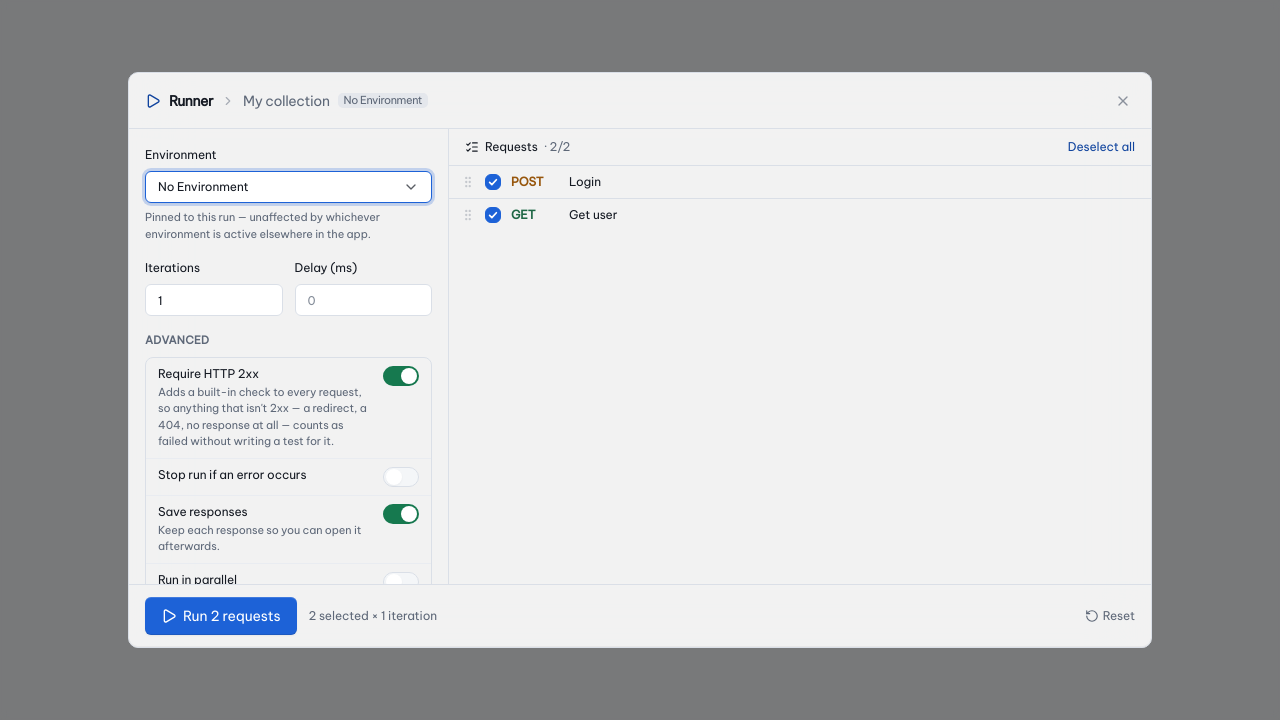
Test: RunnerDialog run loop › tracks the response code of each request
Click the button "Run 2 requests". click: (221, 616)
box: [145,597,297,635]
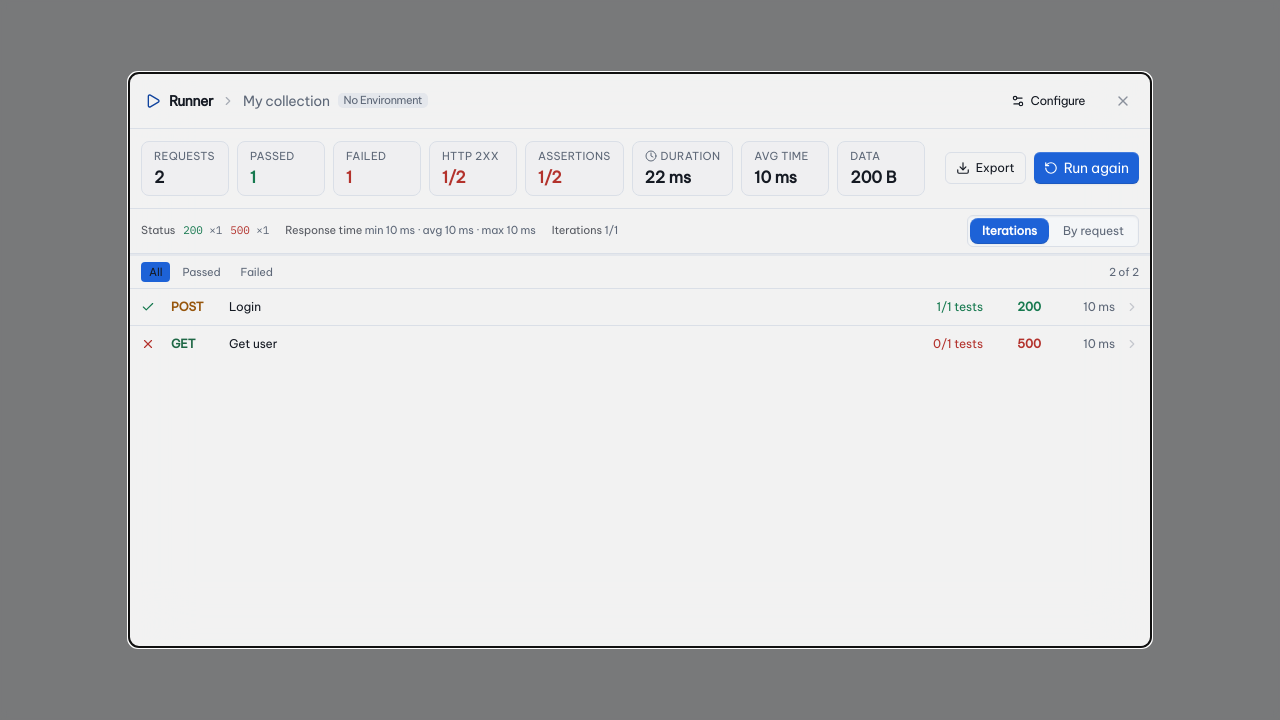
expect the button "200 ×1" is shown: met, box [181,222,224,239]
expect the button "500 ×1" is shown: met, box [228,222,271,239]
